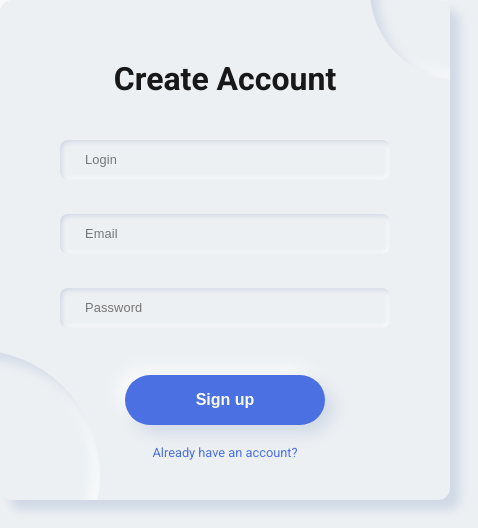
Signup Page › Displays errors
The width and height of the screenshot is (478, 528).
Click the button with test id "submit" at [225, 400], box [125,375,325,425]
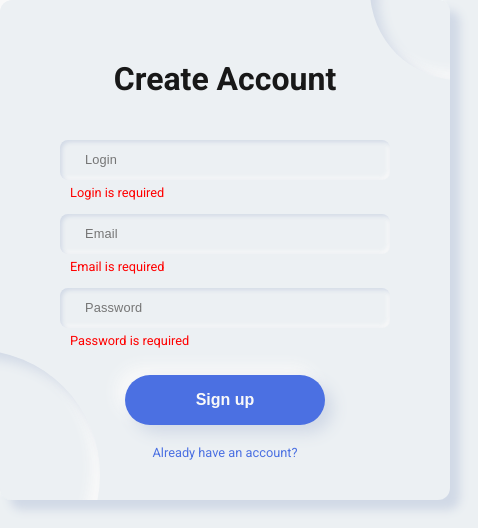
Expected: the text "Login is required" is shown, [70,184,164,200]
Expected: the text "Email is required" is shown, [70,258,164,274]
Expected: the text "Password is required" is shown, [70,332,189,348]
